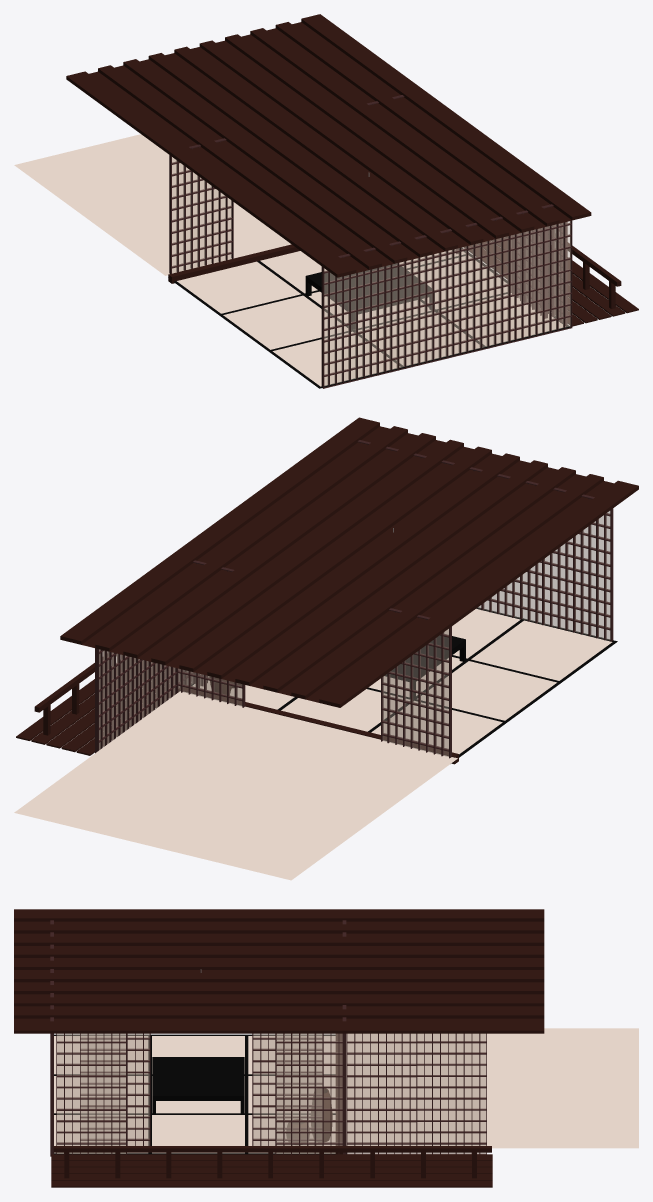
Rendered from meditation_room.glb.
3 views of the same model, one above another, from view 1: azimuth 30°, elevation 25°; view 2: azimuth 150°, elevation 25°; view 3: azimuth 270°, elevation 25° (orthographic). The views are drawn at different scales.
Parts seen in each view (by area): view 1: pPlane20, pPlane15, pPlane16, polySurface162, polySurface47, polySurface208, polySurface116, polySurface24, pCube30, pCube41, pCube24; view 2: pPlane20, pPlane16, pPlane15, polySurface24, polySurface162, pCube30, polySurface185, polySurface208, pCube24, pCube41, polySurface70, polySurface139; view 3: pPlane20, pPlane16, pPlane15, pCube30, polySurface139, polySurface231, polySurface185, polySurface254, polySurface93, polySurface1, pCube41, pCube31 (+4 smaller).
Boxes of the visible parts, x1,y1,x2,y2 form: pPlane20: (66,14,591,277); pPlane15: (174,247,570,388); pPlane16: (14,134,291,275); polySurface162: (324,266,384,385); polySurface47: (448,236,508,355); polySurface208: (386,251,446,370); polySurface116: (510,221,570,340); polySurface24: (172,157,231,273); pCube30: (463,236,638,326); pCube41: (305,263,434,329); pCube24: (168,244,300,283); pPlane20: (60,417,638,707); pPlane16: (14,691,457,880); pPlane15: (191,607,617,757); polySurface24: (382,629,448,756); polySurface162: (544,511,610,640); pCube30: (16,661,173,755); polySurface185: (99,649,135,749); polySurface208: (477,561,541,623); pCube24: (178,687,458,764); pCube41: (384,635,465,698); polySurface70: (178,669,242,706); polySurface139: (138,659,175,721); pPlane20: (14,909,544,1033); pPlane16: (346,1028,638,1148); pPlane15: (54,1034,346,1154); pCube30: (51,1154,492,1187); polySurface139: (347,1033,416,1154); polySurface231: (57,1033,125,1153); polySurface185: (417,1033,486,1154); polySurface254: (276,1033,342,1153); polySurface93: (81,1033,149,1145); polySurface1: (253,1033,321,1145); pCube41: (152,1057,244,1114); pCube31: (53,1146,491,1152).
Size of the model in its own units: 50.37 by 19.37 by 85.84.
